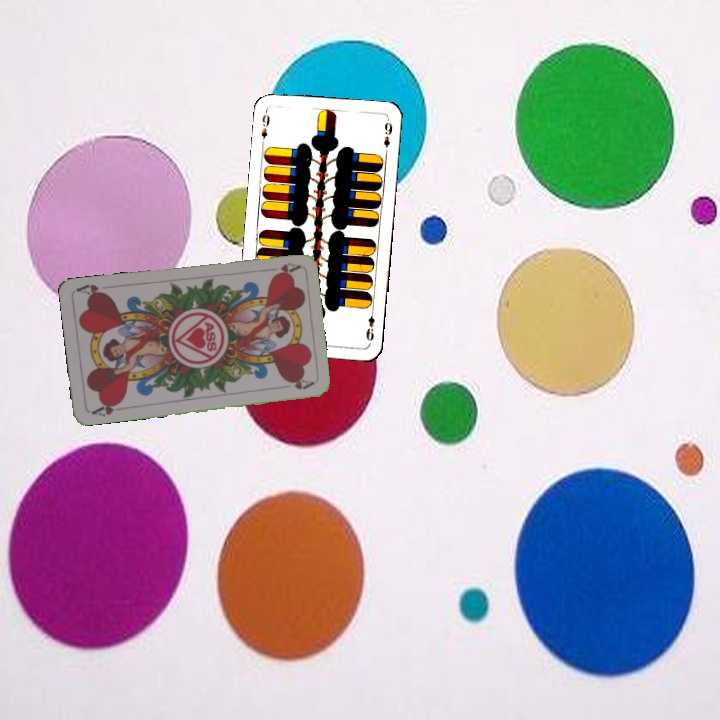E9: (257, 107, 273, 147), (362, 304, 377, 345)
HA: (88, 397, 128, 419), (261, 258, 301, 278)
